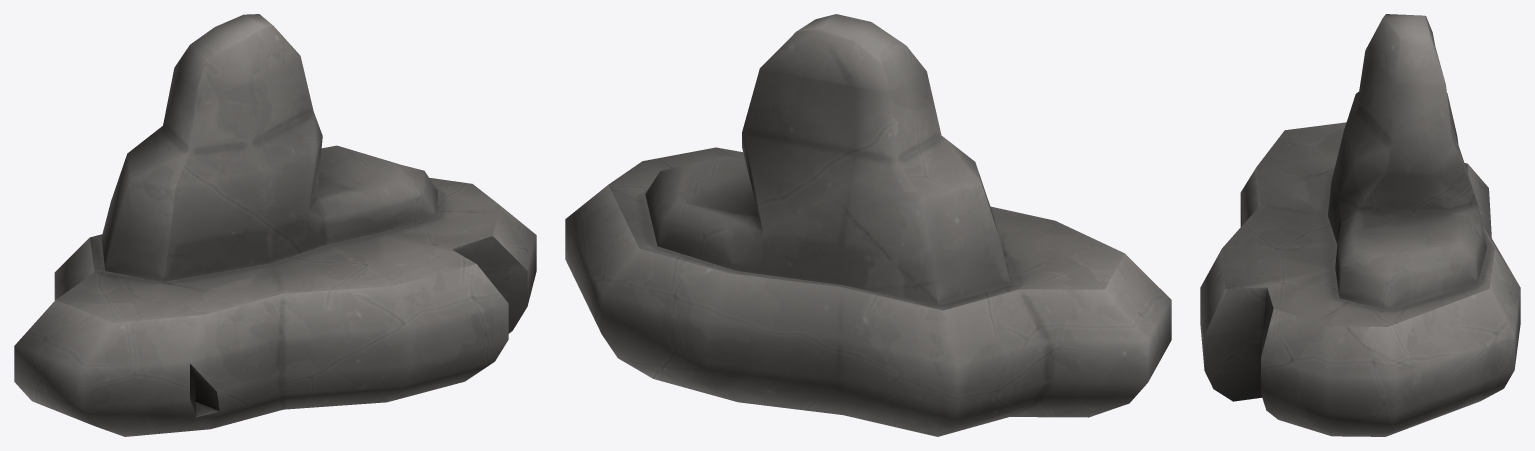
Rendered from Stones01_1.FBX.
3 views of the same model, side by side, from view 1: azimuth 30°, elevation 25°; view 2: azimuth 150°, elevation 25°; view 3: azimuth 270°, elevation 25° (orthographic). The views are drawn at different scales.
Visible parts, largest first — view 1: Stones01_1; view 2: Stones01_1; view 3: Stones01_1.
Part boxes in pixels (<box>): Stones01_1: <box>14,14,536,436</box>; Stones01_1: <box>565,14,1171,436</box>; Stones01_1: <box>1200,14,1520,436</box>.
Size of what is drawn, in the model's own units: 3.46 by 2.11 by 1.93.
